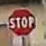stop: (7, 7, 36, 36)
